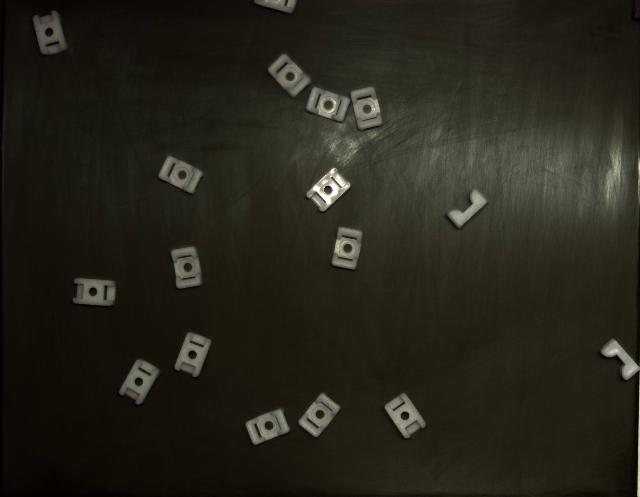first_side: (159, 156, 204, 194)
third_side: (600, 339, 640, 380), (448, 190, 488, 229)
